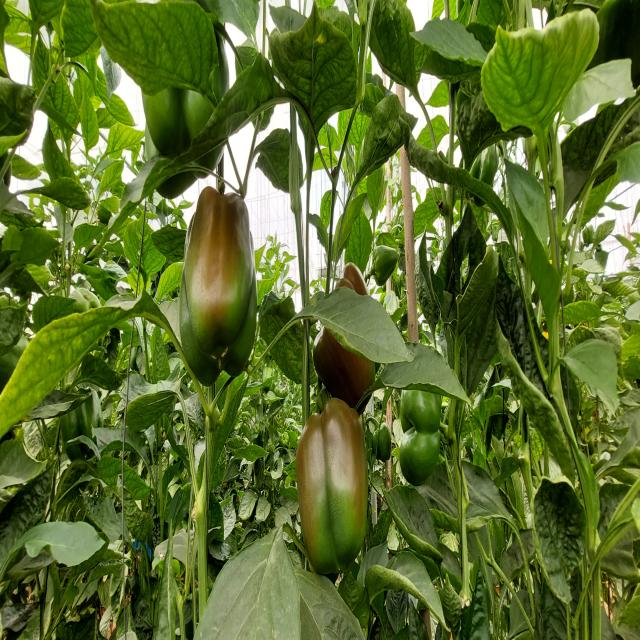BrownishRed--Can-be-Harvested: (184, 180, 262, 368), (298, 412, 369, 550), (318, 260, 380, 390)
Green--Not-ready-to-harvest: (402, 354, 452, 487)
